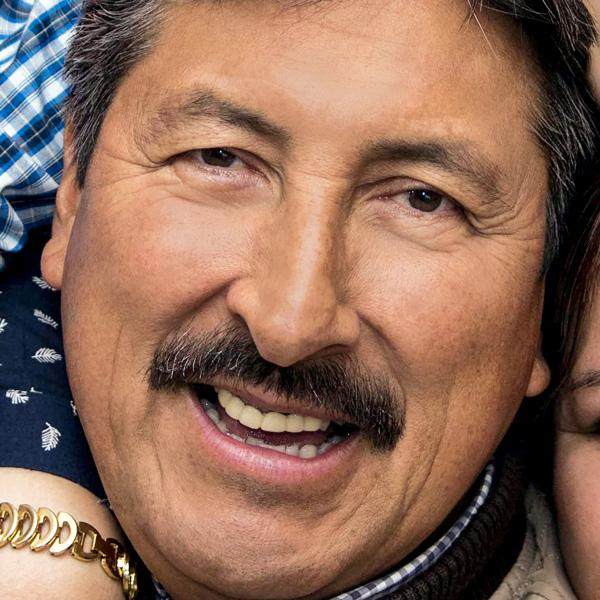Eyes: (361, 165, 480, 249), (158, 124, 281, 199)
